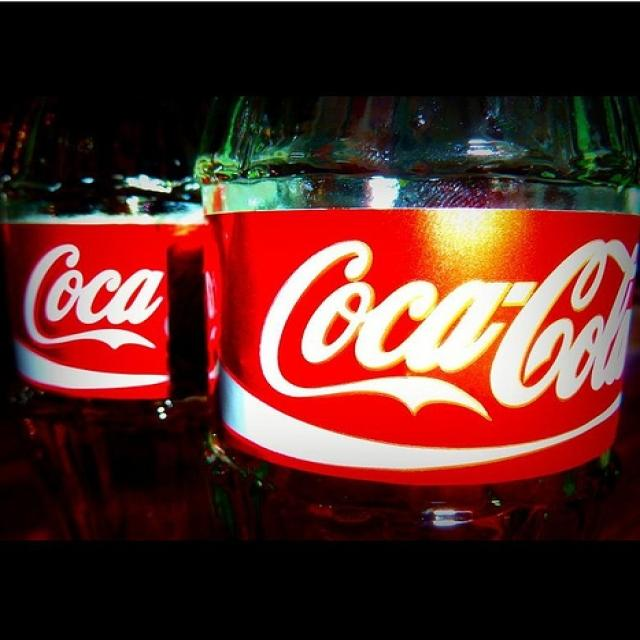cocacola: (253, 227, 640, 424), (19, 239, 187, 361)
